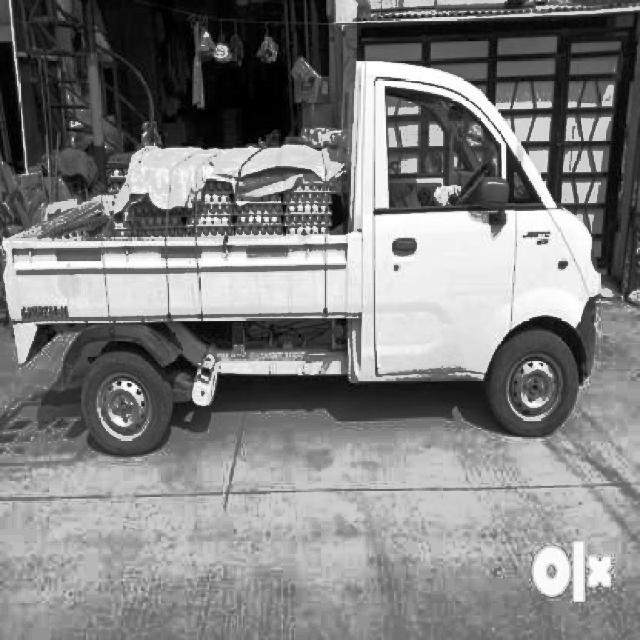LCV: (24, 69, 578, 460)
